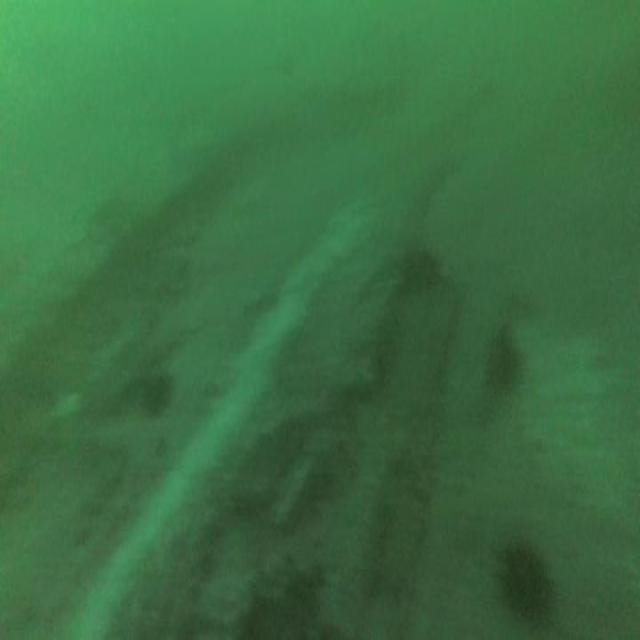echinus: (491, 526, 561, 631)
